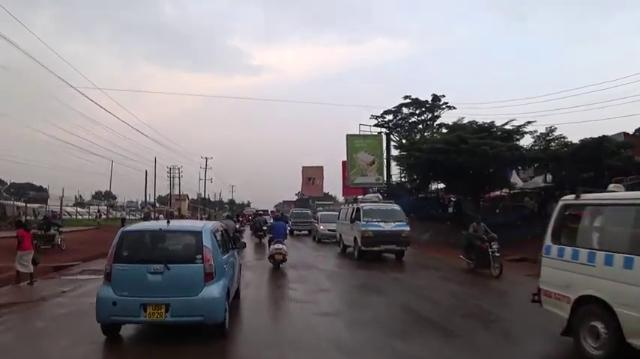car: (96, 218, 239, 337), (312, 211, 340, 243)
motorcycle: (459, 230, 503, 277), (268, 213, 290, 272), (250, 218, 268, 241)
van: (530, 183, 639, 359), (336, 194, 411, 258), (288, 208, 316, 237)
